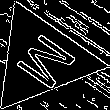M_SE: (5, 25, 78, 93)
